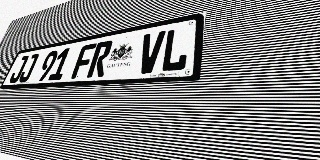1: (48, 47, 72, 81)
9: (36, 50, 60, 81)
F: (71, 43, 97, 79)
J: (17, 53, 40, 83), (8, 55, 29, 83)
L: (159, 26, 191, 72)
R: (86, 40, 114, 78)
V: (136, 30, 166, 74)
